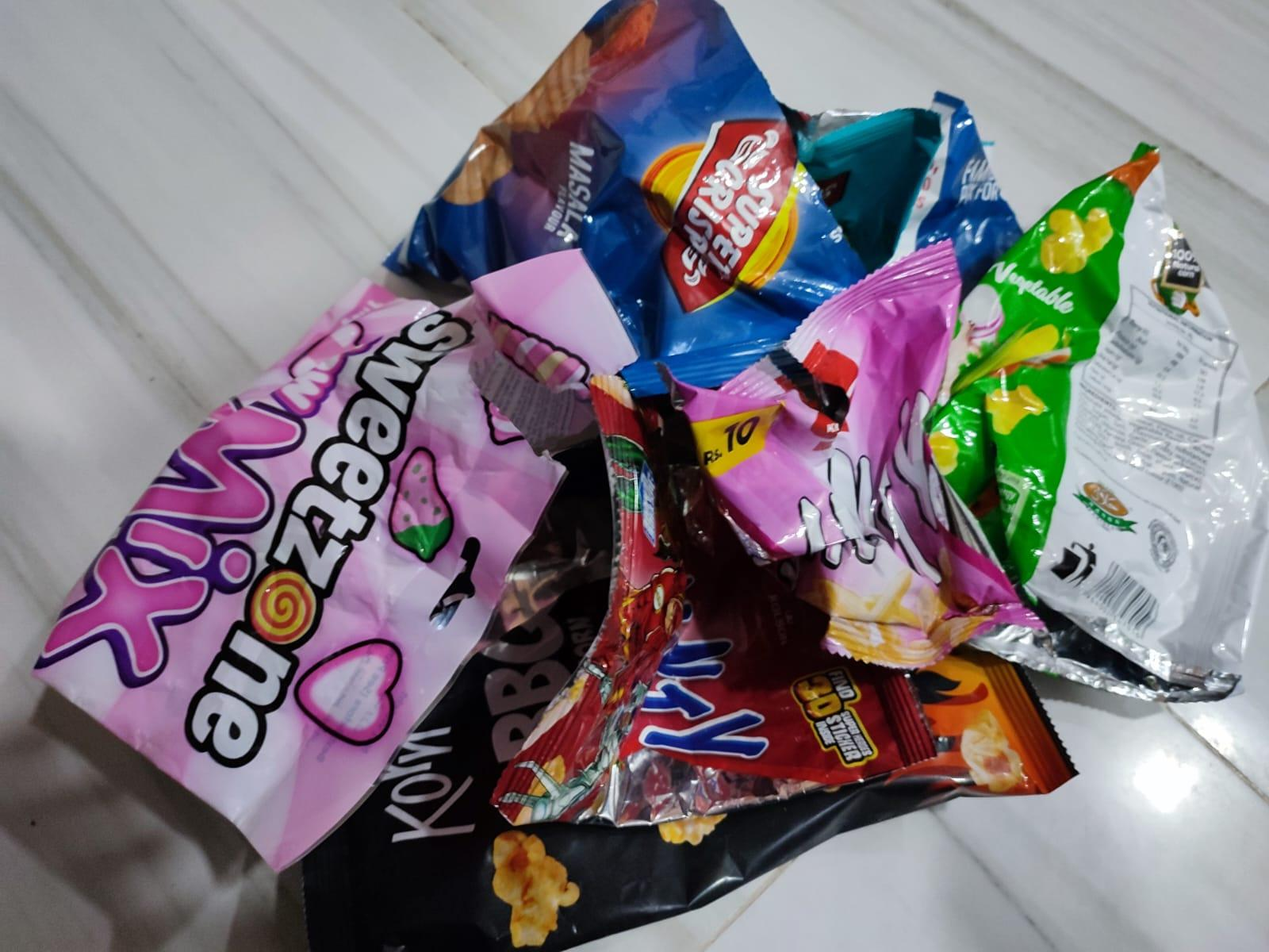garbage: (47, 48, 1254, 905)
